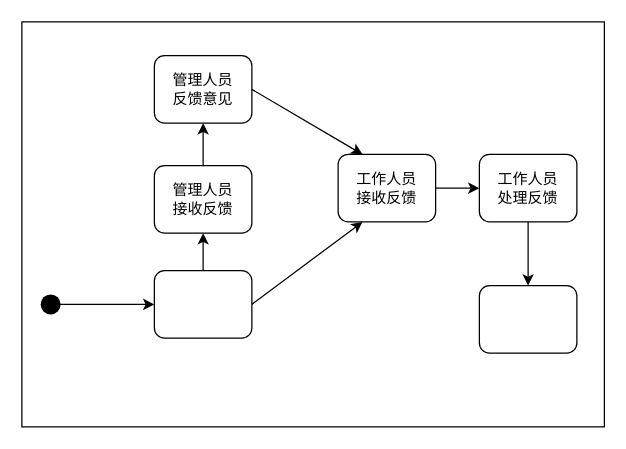
The diagram is 626 pixels wide and 449 high, and some of its shapes have lost their labels. Here are the shapes that lost their labels. From the top down, the centre of each, then its label:
At pixel 202 303: "学生提交反馈".
At pixel 527 318: "学生查看 反馈结果".
